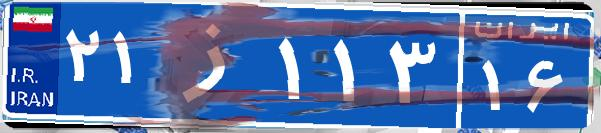1: (273, 28, 330, 110), (330, 28, 385, 110), (475, 38, 525, 113), (110, 28, 158, 105)
2: (57, 26, 110, 107)
3: (385, 28, 445, 110)
6: (525, 38, 570, 115)
ز: (158, 15, 273, 115)
